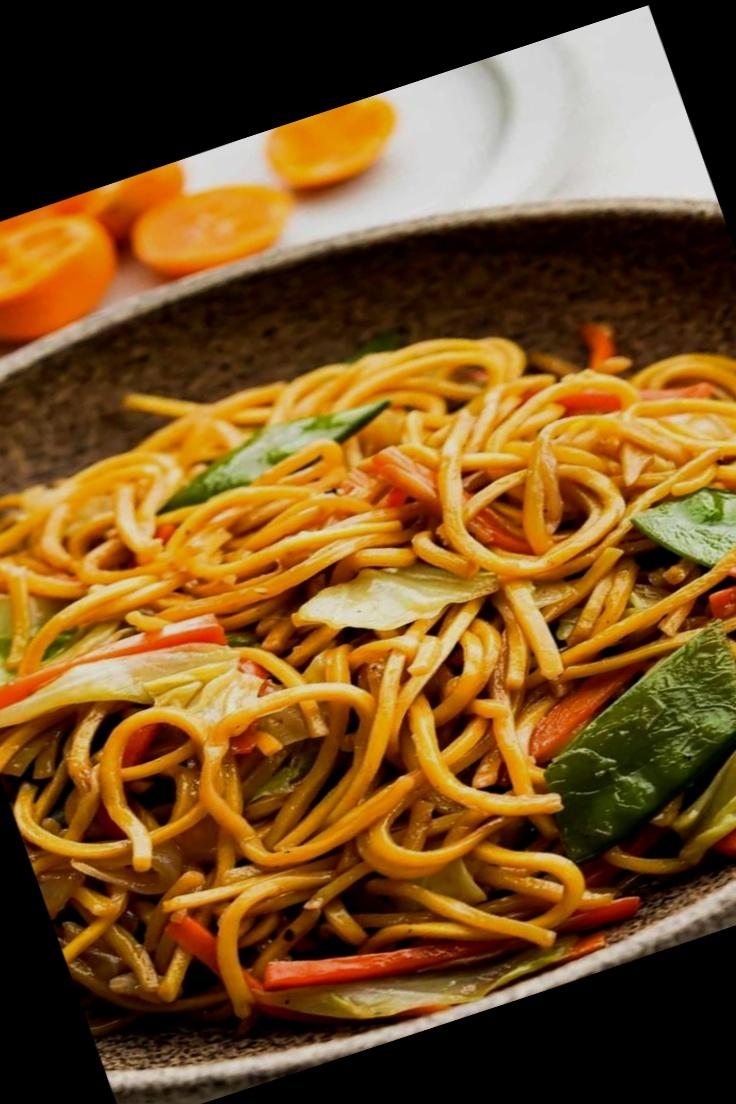pancit bihon: (0, 325, 735, 1021)
